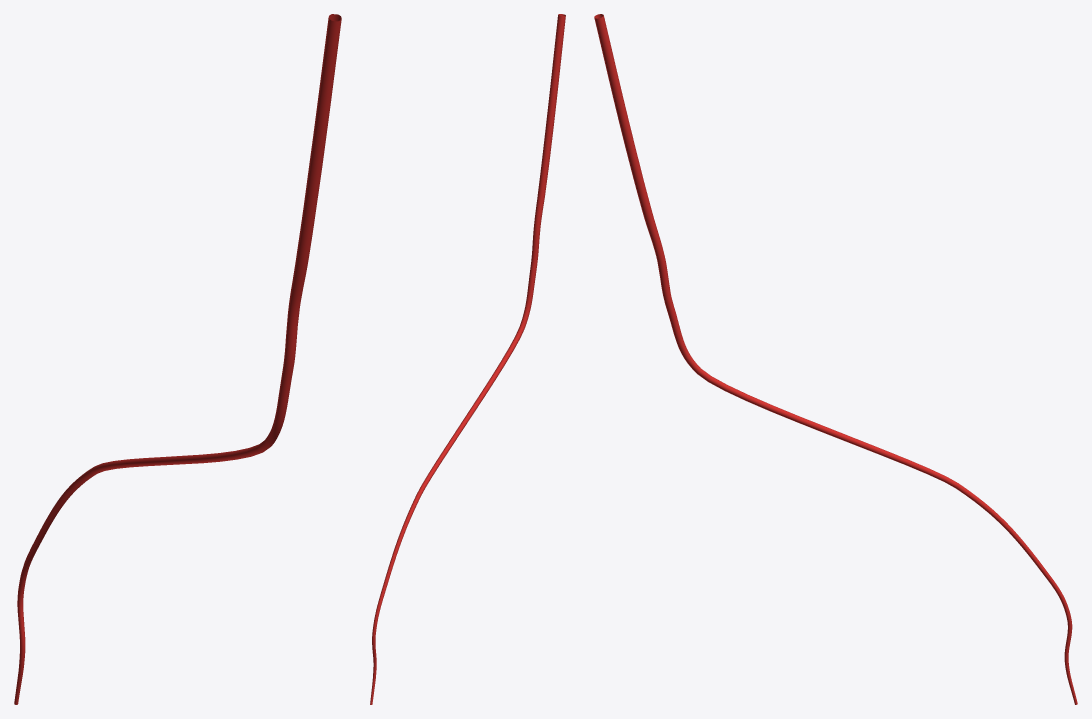
Rendered from circulatorio-median-sacral-artery.glb.
3 renders of one model, left to right at view 1: azimuth 30°, elevation 25°; view 2: azimuth 150°, elevation 25°; view 3: azimuth 270°, elevation 25°, orthographic. The views are drawn at different scales.
Parts seen in each view (by area): view 1: Median sacral artery; view 2: Median sacral artery; view 3: Median sacral artery.
Boxes of the visible parts, box(x1,y1,x2,y2) form: Median sacral artery: box(14, 14, 341, 704); Median sacral artery: box(370, 14, 565, 704); Median sacral artery: box(594, 14, 1077, 704).
Size of the model in its own units: 0.00201 by 0.1535 by 0.0976.
